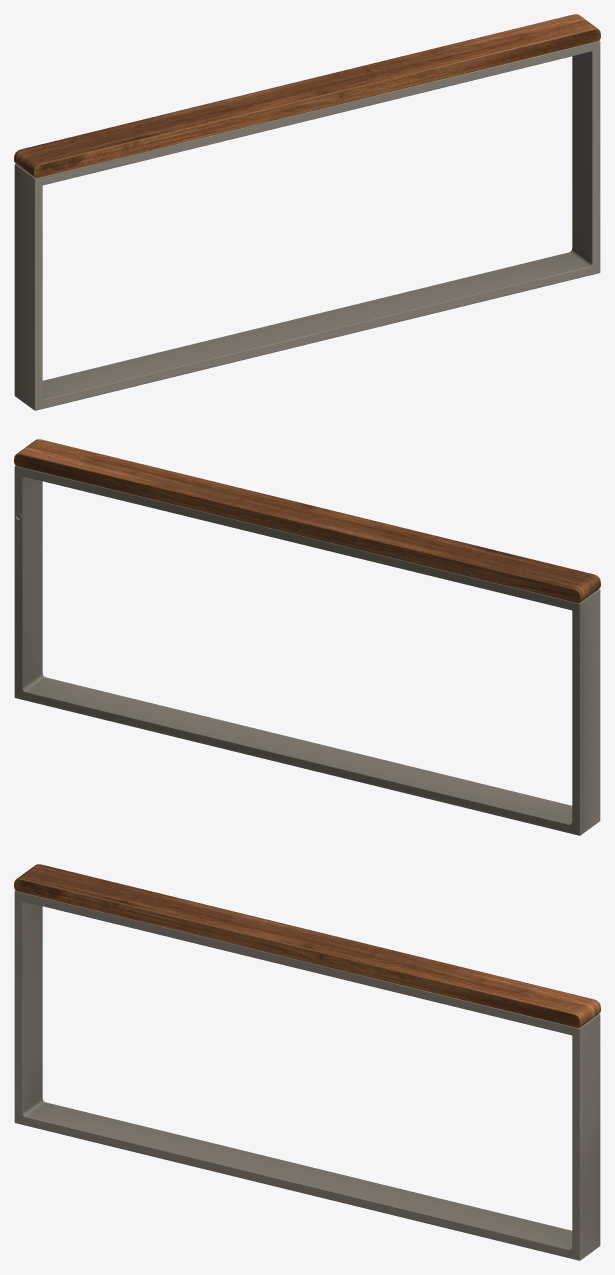
File: MeridaDaybed02_Handle.glb
3 renders of one model, top to bottom at view 1: azimuth 30°, elevation 25°; view 2: azimuth 150°, elevation 25°; view 3: azimuth 330°, elevation 25°, orthographic.
Parts seen in each view (by area): view 1: merida-daybed-body-handle.001, merida-daybed-armrest-wood.001; view 2: merida-daybed-body-handle.001, merida-daybed-armrest-wood.001; view 3: merida-daybed-body-handle.001, merida-daybed-armrest-wood.001.
Boxes of the visible parts, <box> form: merida-daybed-body-handle.001: <box>14,40,600,410</box>; merida-daybed-armrest-wood.001: <box>14,14,600,177</box>; merida-daybed-body-handle.001: <box>14,465,600,835</box>; merida-daybed-armrest-wood.001: <box>14,439,600,602</box>; merida-daybed-body-handle.001: <box>14,890,600,1260</box>; merida-daybed-armrest-wood.001: <box>14,864,600,1027</box>.
Size of the model in its own units: 0.6803 by 0.2815 by 0.0428.
2 materials, 2 textured.
